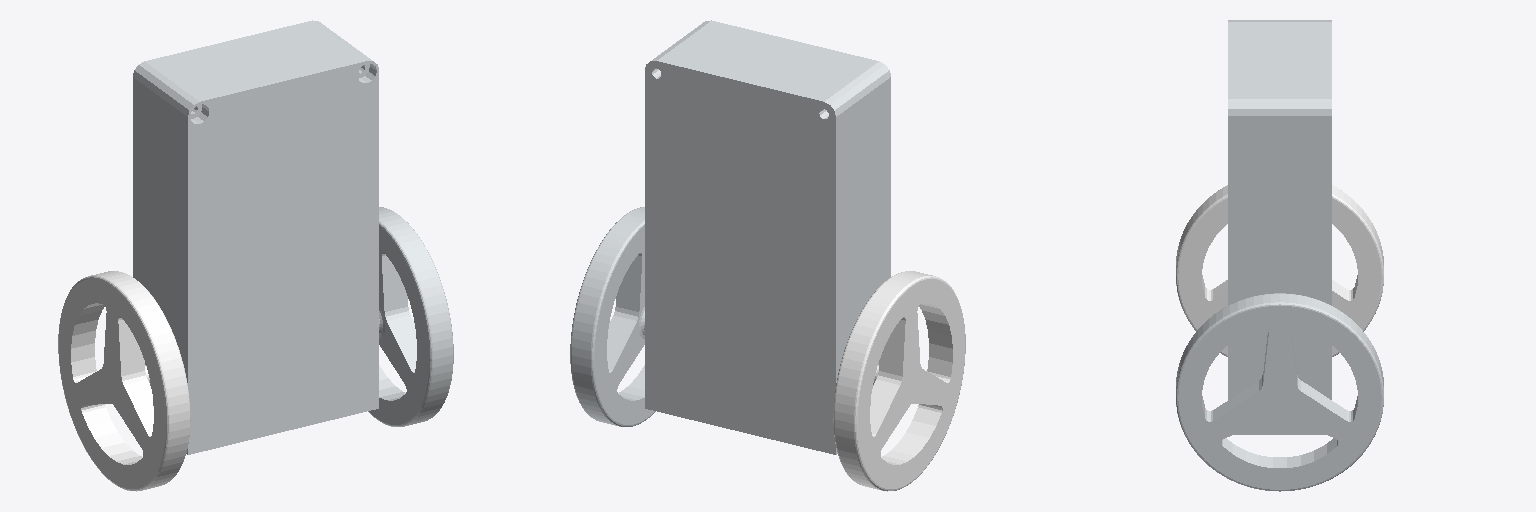
robot.urdf — Segway_Asy:
<?xml version="1.0" encoding="utf-8"?>
<!-- This URDF was automatically created by SolidWorks to URDF Exporter! Originally created by [author] ([email redacted]) 
     Commit Version: 1.6.0-4-g7f85cfe  Build Version: 1.6.7995.38578
     For more information, please see http://wiki.ros.org/sw_urdf_exporter -->
<robot
  name="Segway_Asy">
  <link
    name="base_link">
    <inertial>
      <origin
        xyz="1.0722E-17 0.070156 -7.9452E-05"
        rpy="0 0 0" />
      <mass
        value="0.28447" />
      <inertia
        ixx="0.00039919"
        ixy="5.2128E-19"
        ixz="-5.4543E-20"
        iyy="0.00022072"
        iyz="1.815E-07"
        izz="0.00058388" />
    </inertial>
    <visual>
      <origin
        xyz="0 0 0"
        rpy="0 0 0" />
      <geometry>
        <mesh
          filename="package://Segway_Asy/meshes/base_link.STL" />
      </geometry>
      <material
        name="">
        <color
          rgba="0.89804 0.91765 0.92941 1" />
      </material>
    </visual>
    <collision>
      <origin
        xyz="0 0 0"
        rpy="0 0 0" />
      <geometry>
        <mesh
          filename="package://Segway_Asy/meshes/base_link.STL" />
      </geometry>
    </collision>
  </link>
  <link
    name="left_wheel">
    <inertial>
      <origin
        xyz="-0.0054792 1.3878E-17 1.6987E-17"
        rpy="0 0 0" />
      <mass
        value="0.086767" />
      <inertia
        ixx="8.1115E-05"
        ixy="1.7453E-22"
        ixz="-2.8042E-21"
        iyy="4.1938E-05"
        iyz="-1.6826E-20"
        izz="4.1938E-05" />
    </inertial>
    <visual>
      <origin
        xyz="0 0 0"
        rpy="0 0 0" />
      <geometry>
        <mesh
          filename="package://Segway_Asy/meshes/left_wheel.STL" />
      </geometry>
      <material
        name="">
        <color
          rgba="0.89804 0.91765 0.92941 1" />
      </material>
    </visual>
    <collision>
      <origin
        xyz="0 0 0"
        rpy="0 0 0" />
      <geometry>
        <mesh
          filename="package://Segway_Asy/meshes/left_wheel.STL" />
      </geometry>
    </collision>
  </link>
  <joint
    name="left_axle"
    type="fixed">
    <origin
      xyz="0.06 0 0.04"
      rpy="1.5708 0 0" />
    <parent
      link="base_link" />
    <child
      link="left_wheel" />
    <axis
      xyz="0 0 0" />
  </joint>
  <link
    name="right_wheel">
    <inertial>
      <origin
        xyz="0 0 0"
        rpy="0 0 0" />
      <mass
        value="0" />
      <inertia
        ixx="0"
        ixy="0"
        ixz="0"
        iyy="0"
        iyz="0"
        izz="0" />
    </inertial>
    <visual>
      <origin
        xyz="0 0 0"
        rpy="0 0 0" />
      <geometry>
        <mesh
          filename="package://Segway_Asy/meshes/right_wheel.STL" />
      </geometry>
      <material
        name="">
        <color
          rgba="1 1 1 1" />
      </material>
    </visual>
    <collision>
      <origin
        xyz="0 0 0"
        rpy="0 0 0" />
      <geometry>
        <mesh
          filename="package://Segway_Asy/meshes/right_wheel.STL" />
      </geometry>
    </collision>
  </link>
  <joint
    name="right_axle"
    type="fixed">
    <origin
      xyz="-0.06 0 0.04"
      rpy="1.5708 0 3.1416" />
    <parent
      link="base_link" />
    <child
      link="right_wheel" />
    <axis
      xyz="0 0 0" />
  </joint>
</robot>

--- What the picture shows (computed from the rendered views, not written in the file) ---
The picture shows the robot from 3 angles, left to right: view 1: azimuth 30°, elevation 25°; view 2: azimuth 150°, elevation 25°; view 3: azimuth 270°, elevation 25°; orthographic projection.
Robot: Segway_Asy — 3 links, 2 joints (2 fixed); root link base_link; default pose: every joint at zero.
Links seen in each view (by area): view 1: base_link, right_wheel, left_wheel; view 2: base_link, right_wheel, left_wheel; view 3: base_link, left_wheel, right_wheel.
Link boxes in pixels (box(x1,y1,x2,y2)): base_link: box(133, 20, 378, 454); right_wheel: box(58, 271, 190, 491); left_wheel: box(368, 207, 453, 426); base_link: box(645, 20, 890, 454); right_wheel: box(833, 271, 965, 491); left_wheel: box(570, 207, 655, 426); base_link: box(1228, 20, 1331, 434); left_wheel: box(1176, 293, 1383, 491); right_wheel: box(1176, 185, 1383, 356).
Bounding box of the posed robot: 0.12 × 0.08 × 0.155 m (x, y, z).
3 mesh visuals loaded from 3 distinct referenced files (3 binary STL).